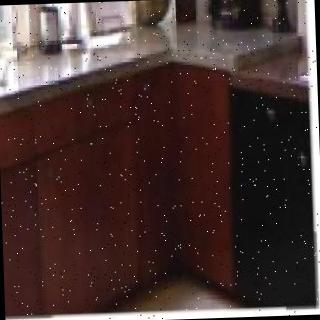smoke: (0, 4, 31, 157)
